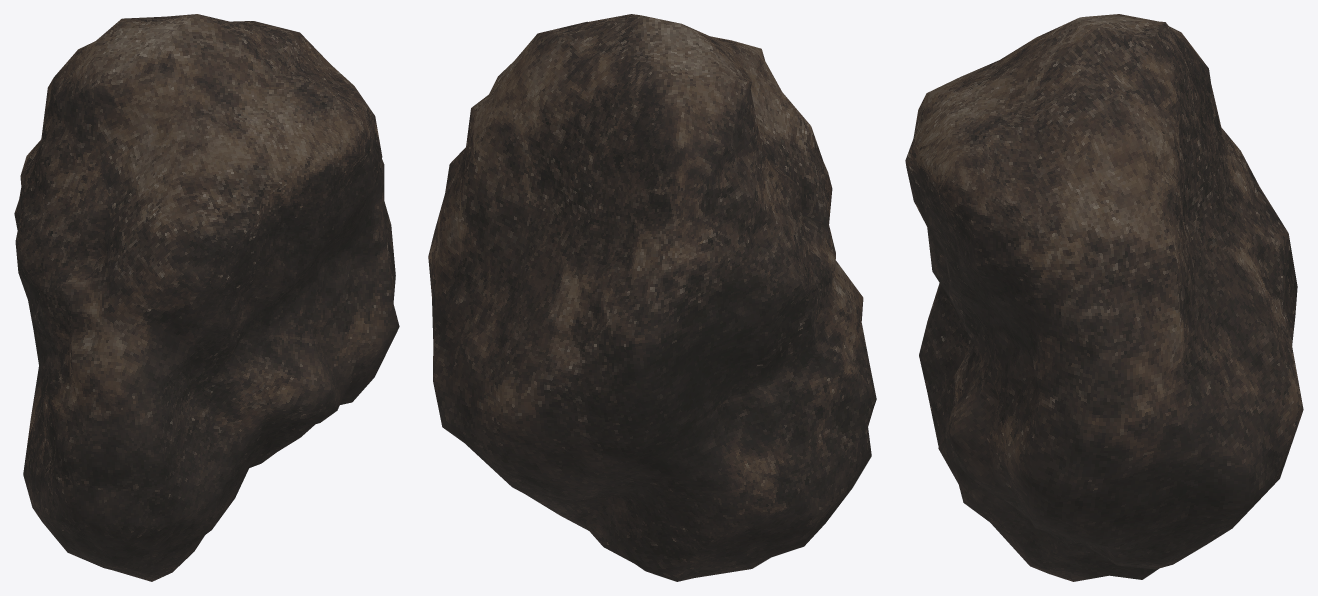
The model's file is SM_RP2_Rock_8m_3.001.glb.
The picture shows the model from 3 angles, left to right: view 1: azimuth 30°, elevation 25°; view 2: azimuth 150°, elevation 25°; view 3: azimuth 270°, elevation 25°; orthographic projection. The views are drawn at different scales.
Visible parts, largest first — view 1: SM_RP2_Rock_8m_3.001; view 2: SM_RP2_Rock_8m_3.001; view 3: SM_RP2_Rock_8m_3.001.
Part boxes in pixels (x1=…): SM_RP2_Rock_8m_3.001: x1=14, y1=14, x2=399, y2=581; SM_RP2_Rock_8m_3.001: x1=428, y1=14, x2=876, y2=581; SM_RP2_Rock_8m_3.001: x1=905, y1=14, x2=1303, y2=581.
Bounding box in the file's own units: 10.17 × 13.89 × 8.6.
Materials: 1 (1 with a texture image).
